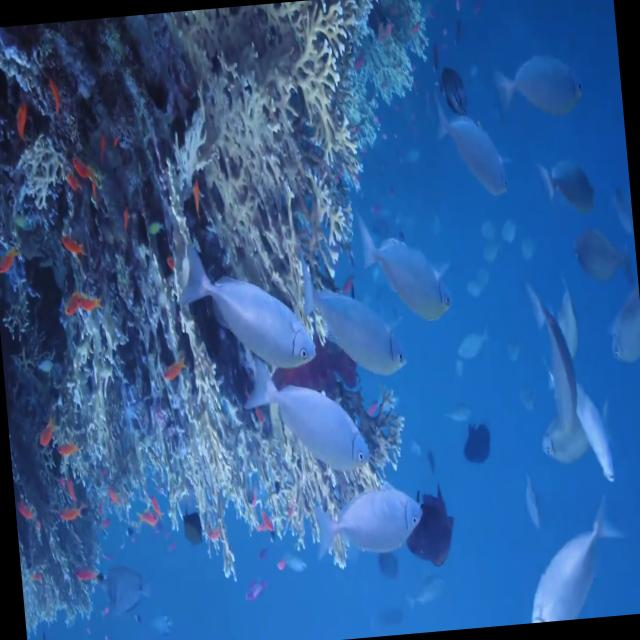fish: (160, 228, 330, 394), (243, 349, 376, 504), (511, 484, 637, 624), (354, 207, 460, 346), (301, 260, 410, 390), (304, 464, 428, 572), (515, 286, 590, 446), (427, 90, 517, 216), (487, 46, 595, 136), (526, 392, 622, 482), (561, 365, 627, 494), (400, 476, 468, 582), (568, 222, 640, 308), (534, 146, 605, 217), (584, 296, 640, 372), (425, 61, 480, 119), (97, 563, 146, 617), (459, 416, 499, 474), (15, 494, 40, 546), (241, 570, 270, 614), (52, 496, 86, 533), (34, 410, 60, 456), (131, 508, 164, 544), (70, 150, 104, 184), (10, 98, 32, 146), (0, 237, 21, 282), (205, 516, 227, 558), (78, 288, 102, 318)
